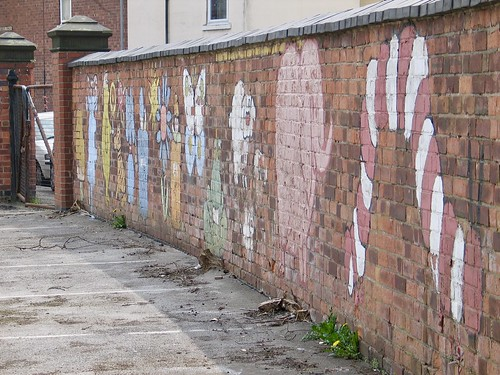graffiti: (69, 40, 499, 285)
wall: (63, 19, 500, 375)
